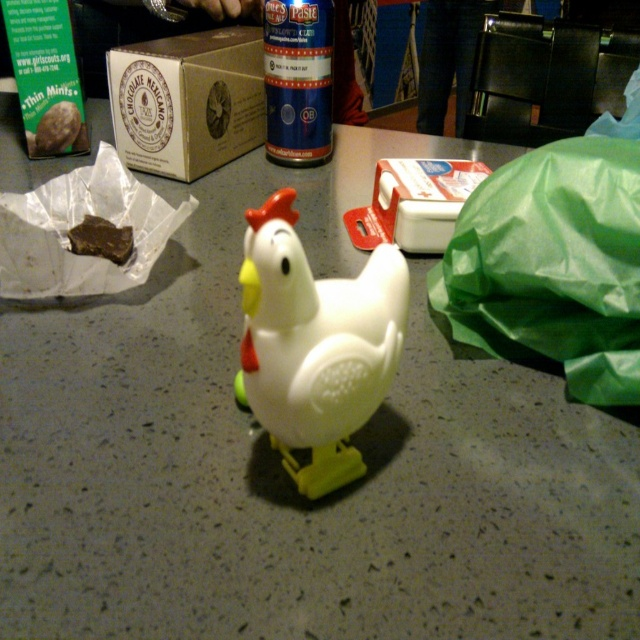Chicken: (234, 187, 406, 471)
